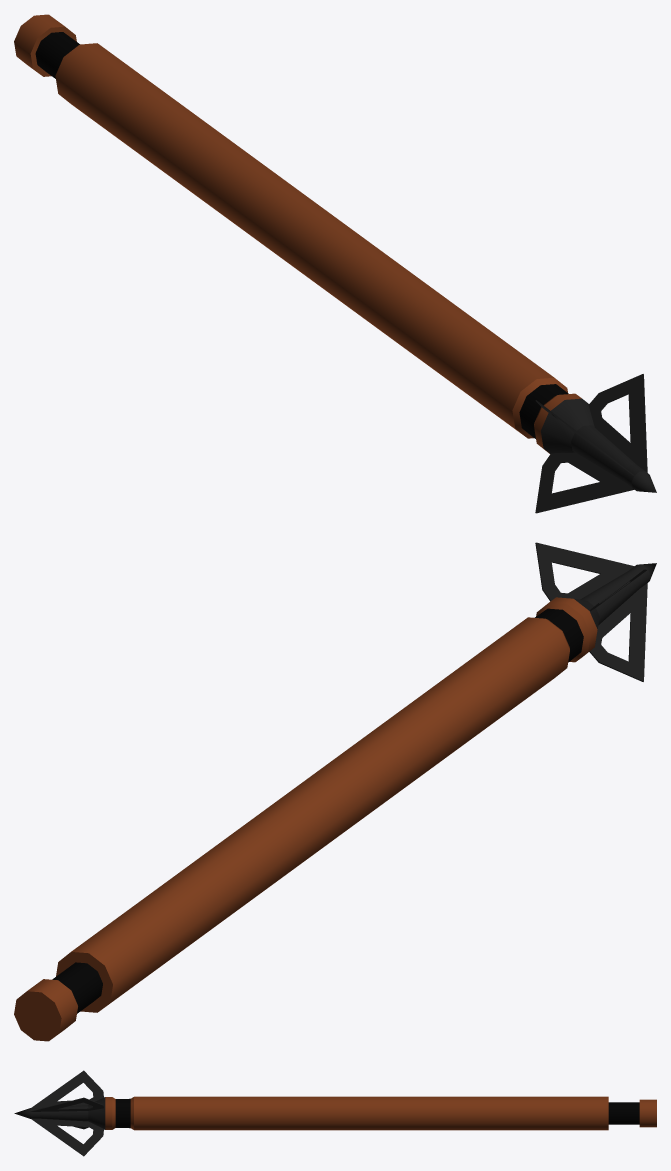
The model's file is AMMO_AI.fbx.
3 views of the same model, one above another, from view 1: azimuth 30°, elevation 25°; view 2: azimuth 150°, elevation 25°; view 3: azimuth 270°, elevation 25° (orthographic). The views are drawn at different scales.
Parts seen in each view (by area): view 1: Cube.008; view 2: Cube.008; view 3: Cube.008.
Boxes of the visible parts, box(x1,y1,x2,y2) form: Cube.008: box(14, 14, 656, 513); Cube.008: box(14, 542, 656, 1041); Cube.008: box(14, 1070, 656, 1156).
Size of the model in its own units: 19.38 by 19.38 by 191.
